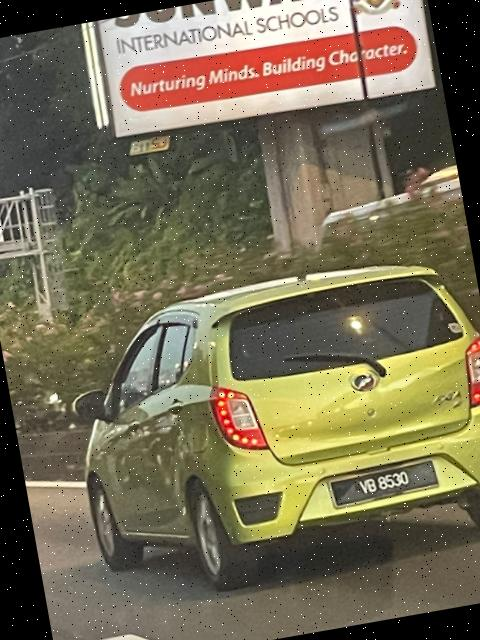License_Plate: (333, 460, 433, 506)
car: (45, 240, 480, 605)
